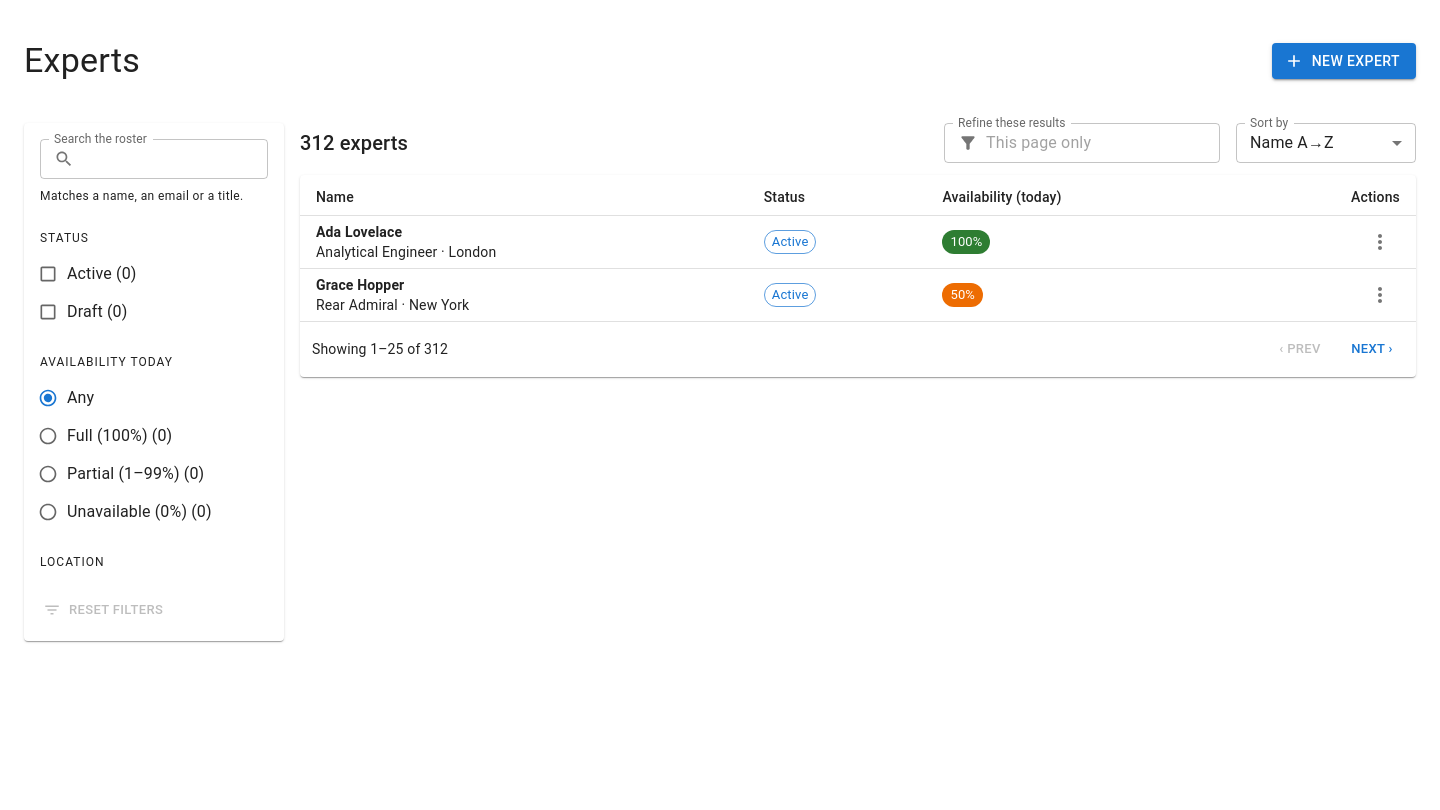
Edit… — the only way to a write › opens the expert form, filled from the whole record rather than from the row
The width and height of the screenshot is (1440, 810).
Click the button named "Actions for Ada Lovelace". click: click(1380, 242)
box: top-left (1360, 222), bottom-right (1400, 262)
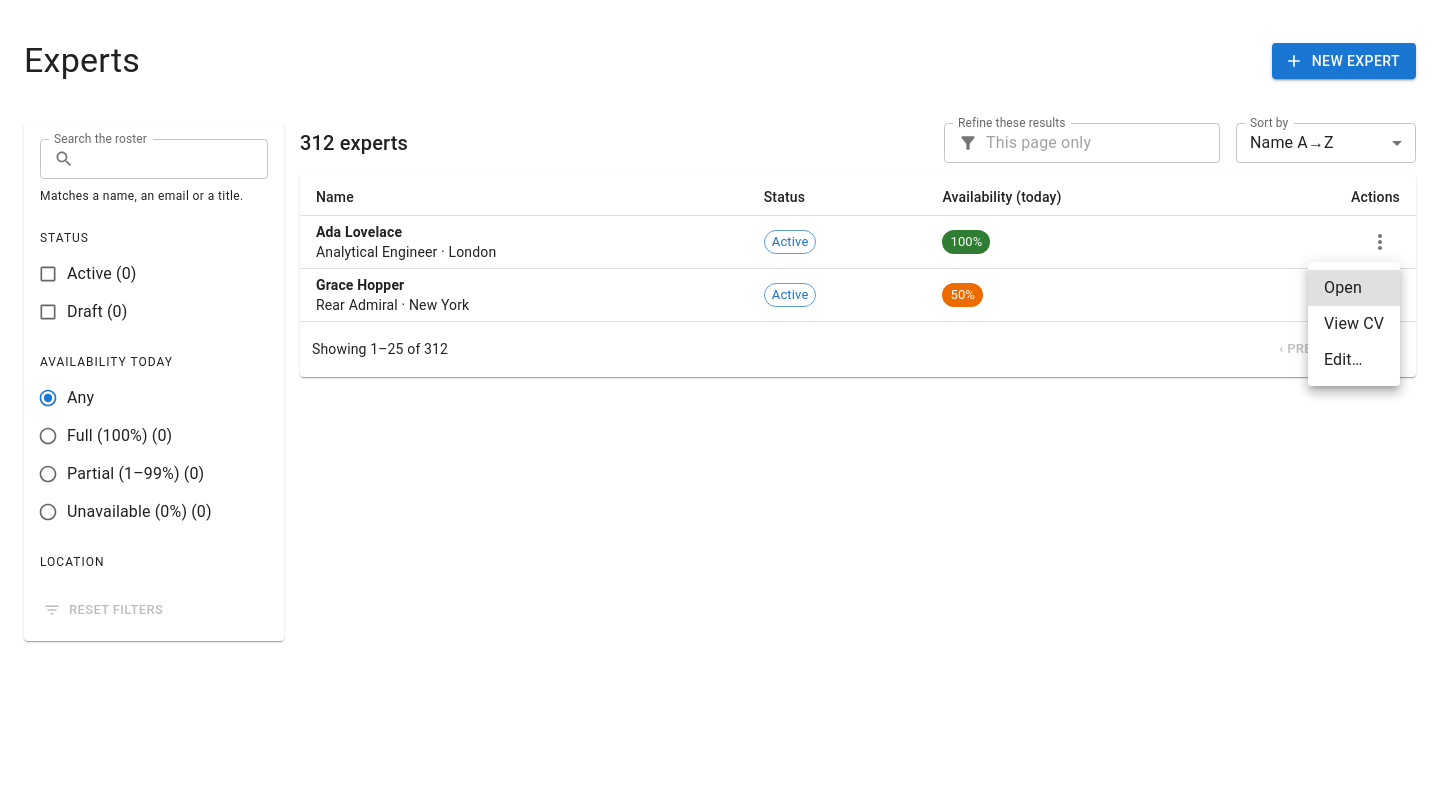
Click the menu item "Edit…". click: click(1343, 360)
box: top-left (1324, 350), bottom-right (1363, 369)
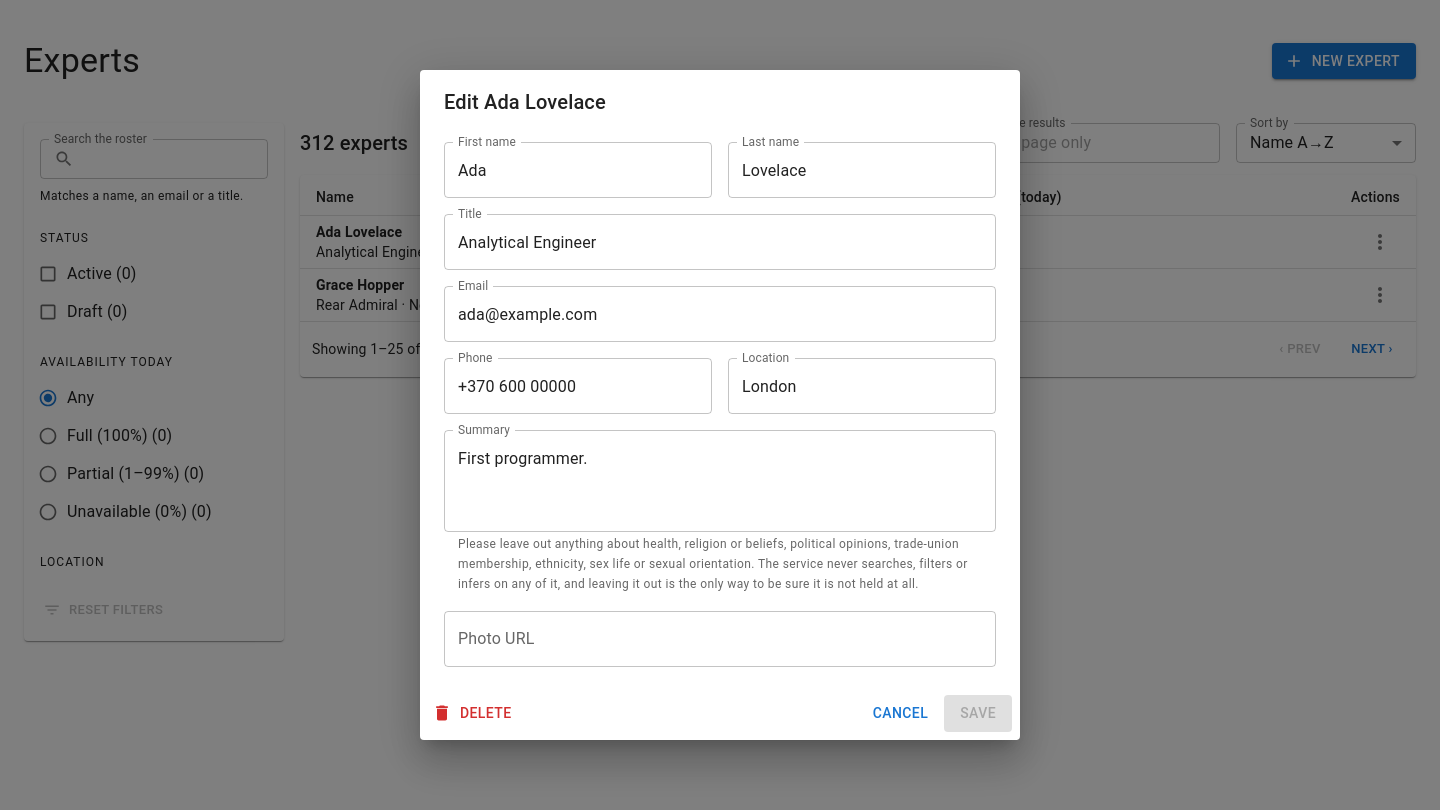
Check: the field labelled "Phone" holds "+370 600 00000", box top-left (444, 358), bottom-right (712, 414)
Check: the text box labelled "Summary" holds "First programmer.", box top-left (458, 447), bottom-right (982, 516)
